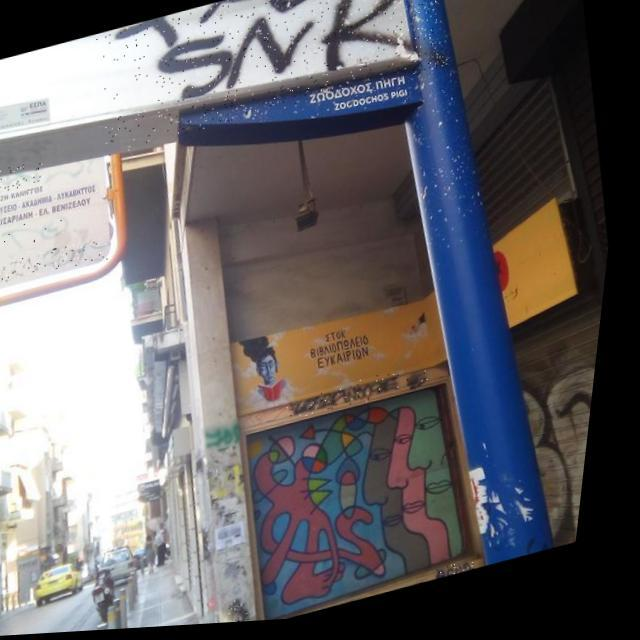-: (85, 0, 458, 158), (0, 236, 116, 293), (290, 374, 412, 428), (4, 210, 82, 255), (0, 158, 51, 204), (210, 421, 253, 456), (239, 596, 269, 626), (446, 566, 490, 586), (414, 374, 438, 392)
